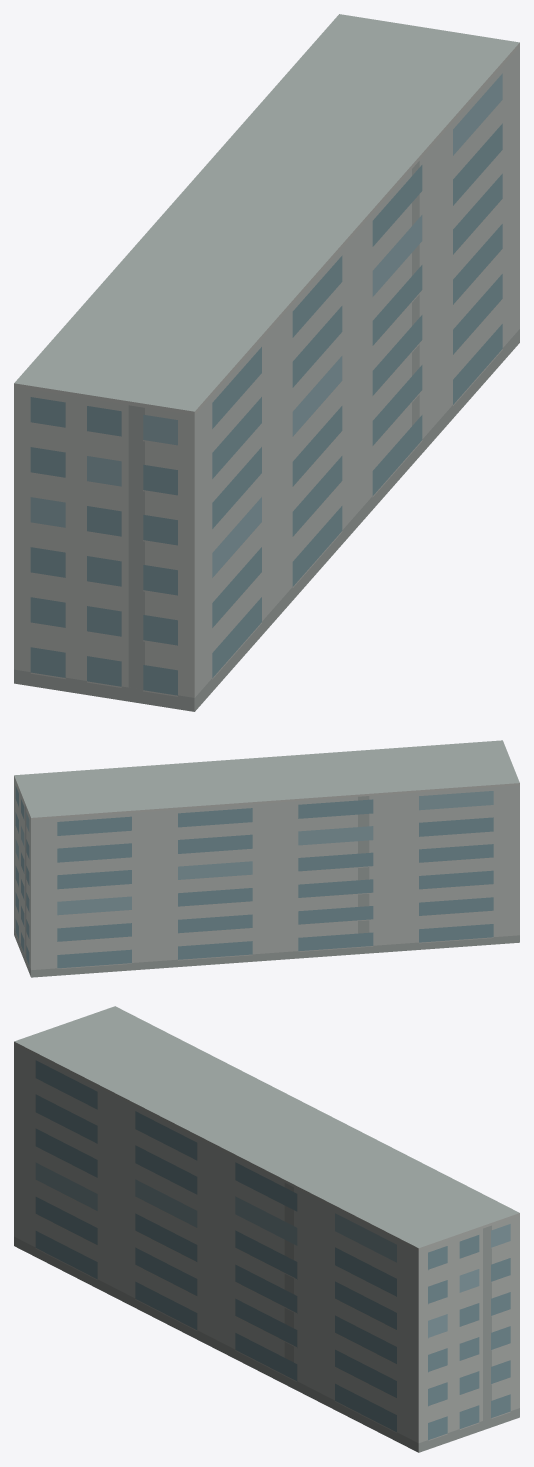
Rendered from residential-6da37cdb-94c6-473c-8e68-1aa8e2be5ca2.glb.
3 views of the same model, one above another, from view 1: azimuth 30°, elevation 25°; view 2: azimuth 150°, elevation 25°; view 3: azimuth 270°, elevation 25° (orthographic). The views are drawn at different scales.
Visible parts, largest first — view 1: residential-6da37cdb-94c6-473c-8e68-1aa8e2be5ca2.tmp; view 2: residential-6da37cdb-94c6-473c-8e68-1aa8e2be5ca2.tmp; view 3: residential-6da37cdb-94c6-473c-8e68-1aa8e2be5ca2.tmp.
Boxes of the visible parts, <box> form: residential-6da37cdb-94c6-473c-8e68-1aa8e2be5ca2.tmp: <box>14,14,519,711</box>; residential-6da37cdb-94c6-473c-8e68-1aa8e2be5ca2.tmp: <box>14,740,519,977</box>; residential-6da37cdb-94c6-473c-8e68-1aa8e2be5ca2.tmp: <box>14,1006,519,1452</box>.
Bounding box in the file's own units: 46.48 × 18.3 × 41.03.
